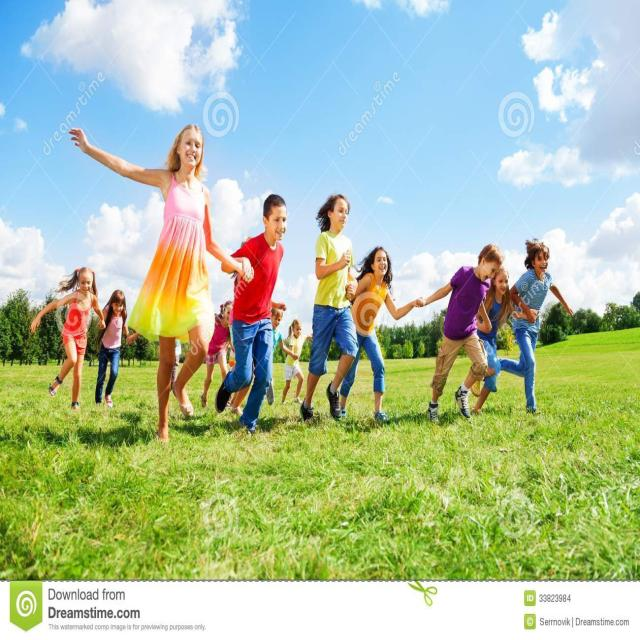body: (67, 122, 255, 450), (213, 192, 289, 436), (414, 242, 506, 428), (335, 245, 428, 425), (298, 194, 359, 433), (499, 237, 576, 415), (29, 265, 107, 412), (470, 263, 541, 418), (94, 288, 132, 409), (200, 300, 236, 412), (279, 318, 305, 407), (262, 303, 284, 408), (167, 332, 183, 394)
